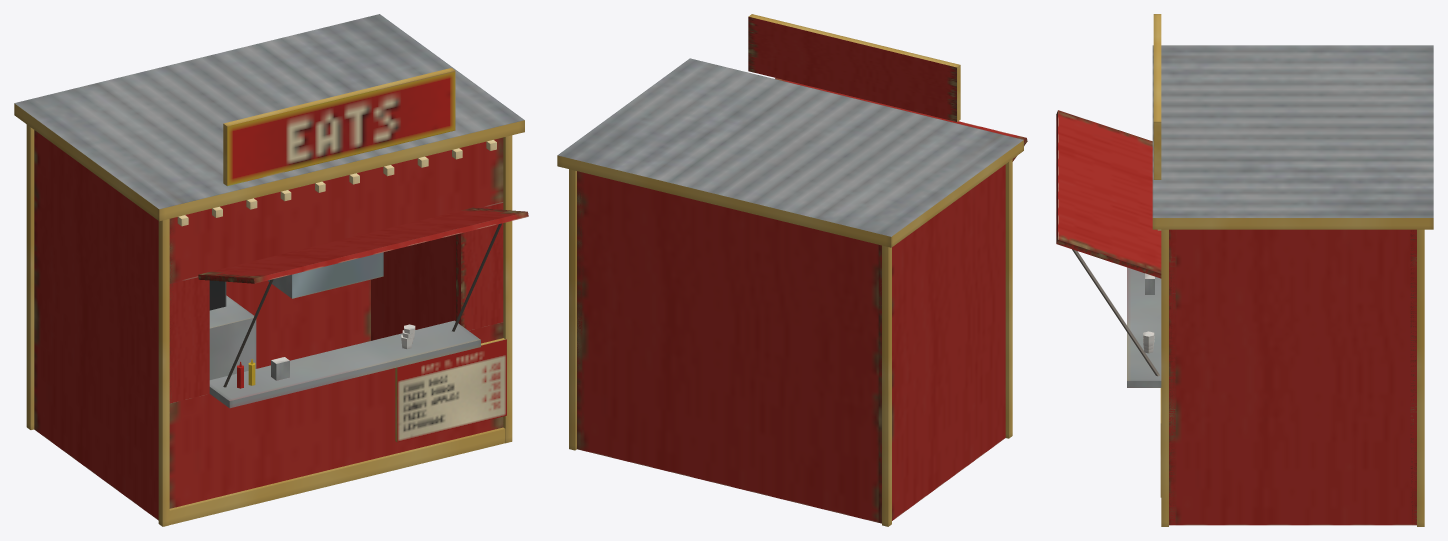
Rendered from food_stand.obj.
The picture shows the model from 3 angles, left to right: view 1: azimuth 30°, elevation 25°; view 2: azimuth 150°, elevation 25°; view 3: azimuth 270°, elevation 25°; orthographic projection. The views are drawn at different scales.
Parts seen in each view (by area): view 1: food_stand, food_stand_flap; view 2: food_stand, food_stand_flap; view 3: food_stand, food_stand_flap.
Boxes of the visible parts, box(x1,y1,x2,y2) form: food_stand: box(14, 14, 524, 526); food_stand_flap: box(198, 68, 528, 387); food_stand: box(557, 58, 1023, 526); food_stand_flap: box(748, 14, 1027, 161); food_stand: box(1127, 45, 1433, 526); food_stand_flap: box(1056, 14, 1161, 376).
Size of the model in its own units: 3.2 by 3.25 by 2.95.
1 material, 1 textured.
